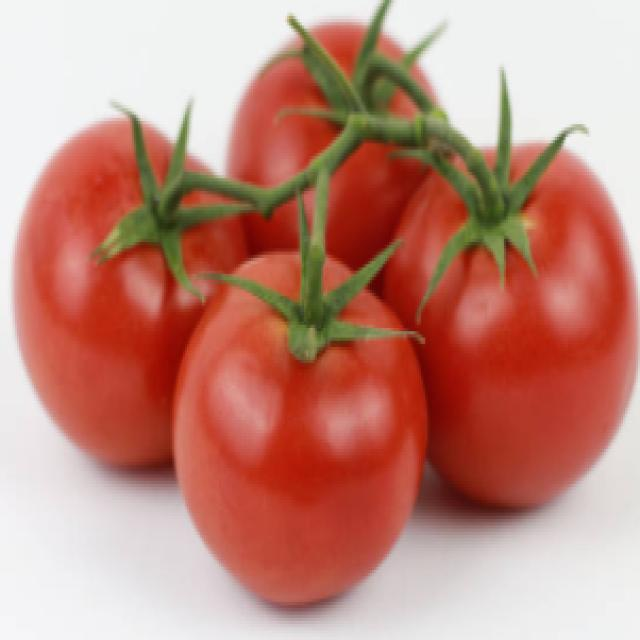Tomato: (182, 210, 438, 606), (385, 126, 635, 508), (14, 116, 228, 463)
